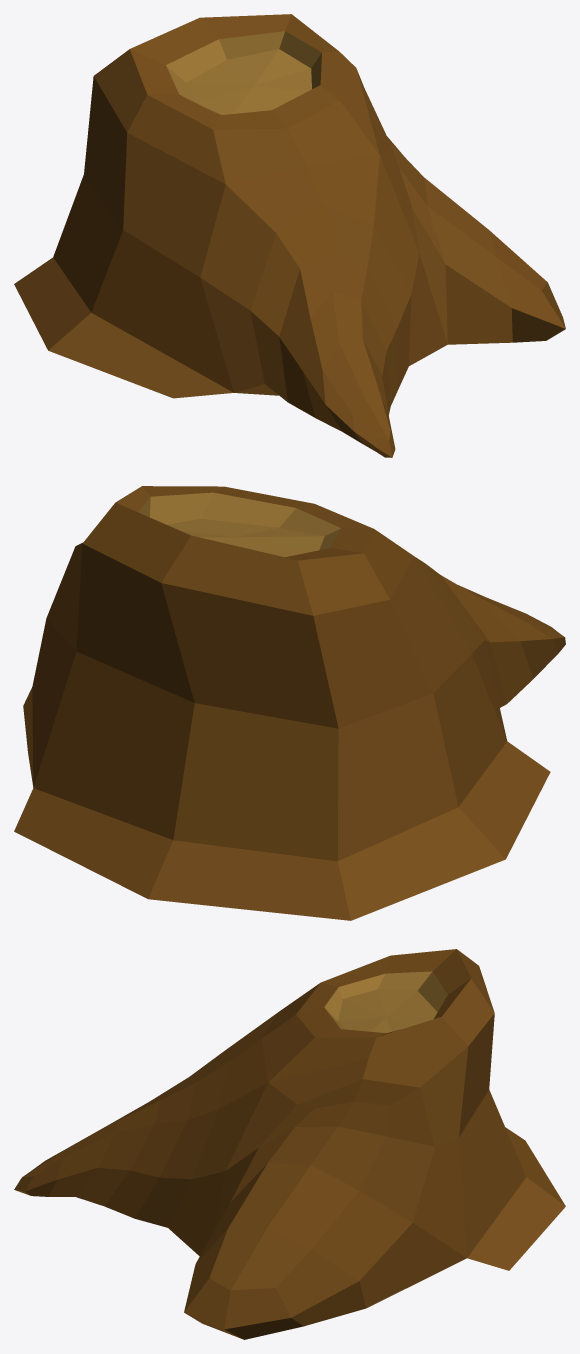
The model's file is Log_3.fbx.
The picture shows the model from 3 angles, top to bottom: view 1: azimuth 30°, elevation 25°; view 2: azimuth 150°, elevation 25°; view 3: azimuth 270°, elevation 25°; orthographic projection. The views are drawn at different scales.
Parts seen in each view (by area): view 1: Log_3; view 2: Log_3; view 3: Log_3.
Boxes of the visible parts, left/top/right/bottom form: Log_3: left=14, top=14, right=565, bottom=457; Log_3: left=14, top=486, right=565, bottom=920; Log_3: left=14, top=949, right=565, bottom=1339.
Size of the model in its own units: 172 by 105 by 201.
